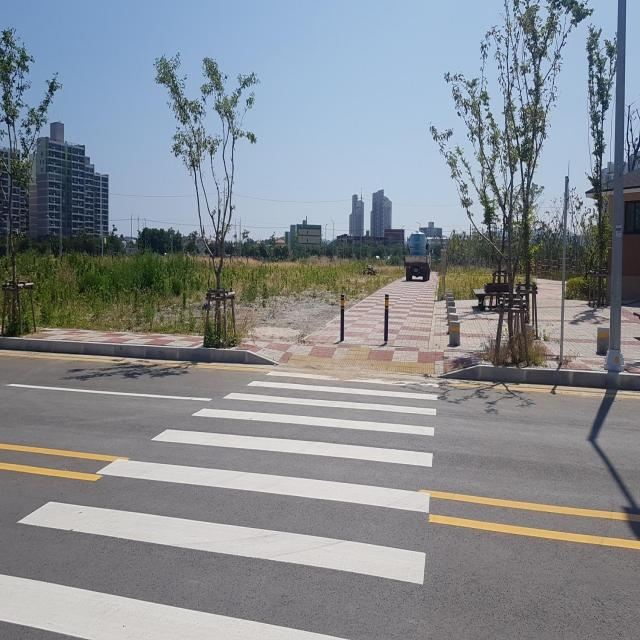횡단보도: (0, 368, 440, 640)
